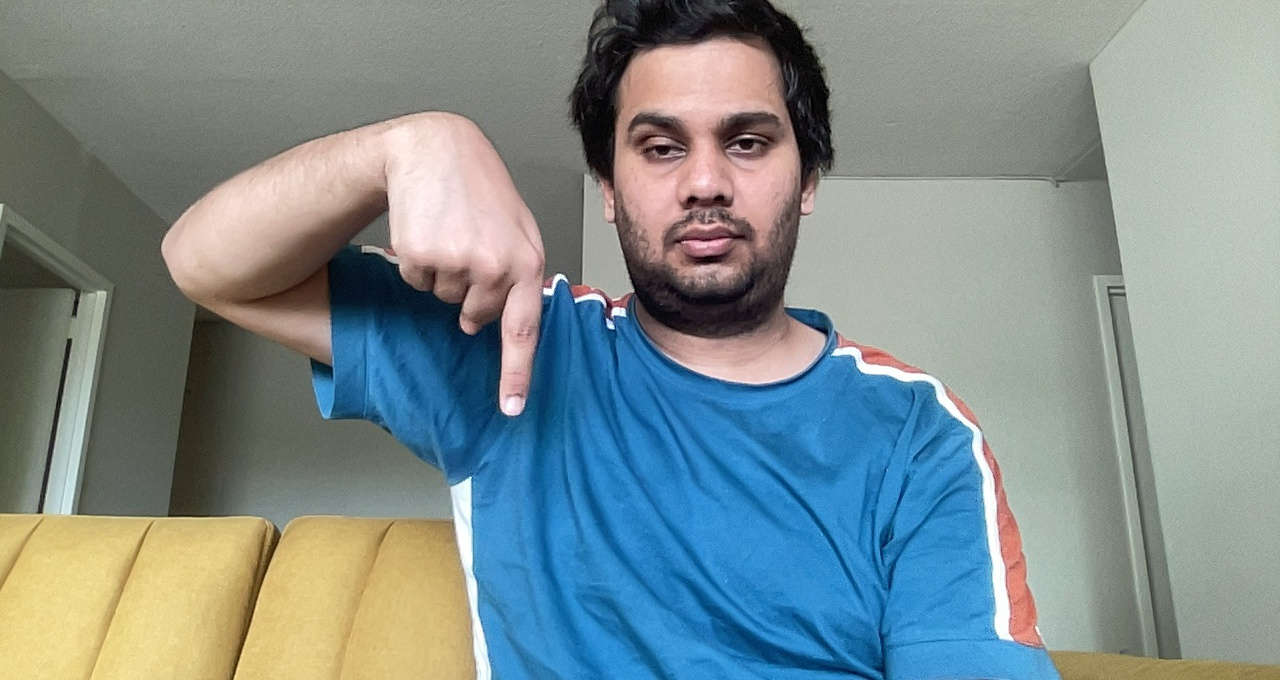fingerdown: (378, 101, 556, 426)
